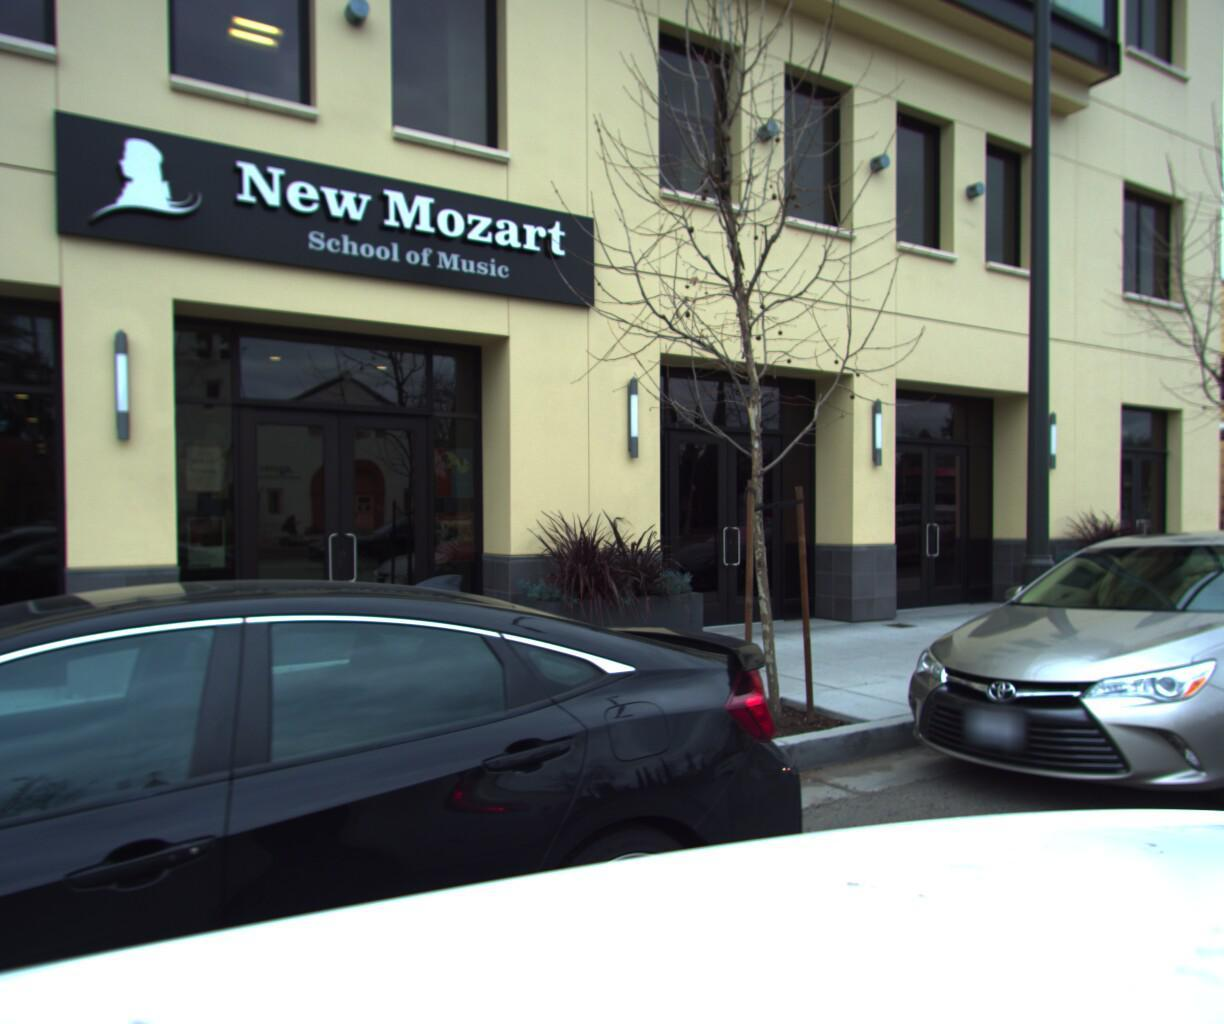car: (0, 533, 859, 1024), (872, 516, 1224, 872)
